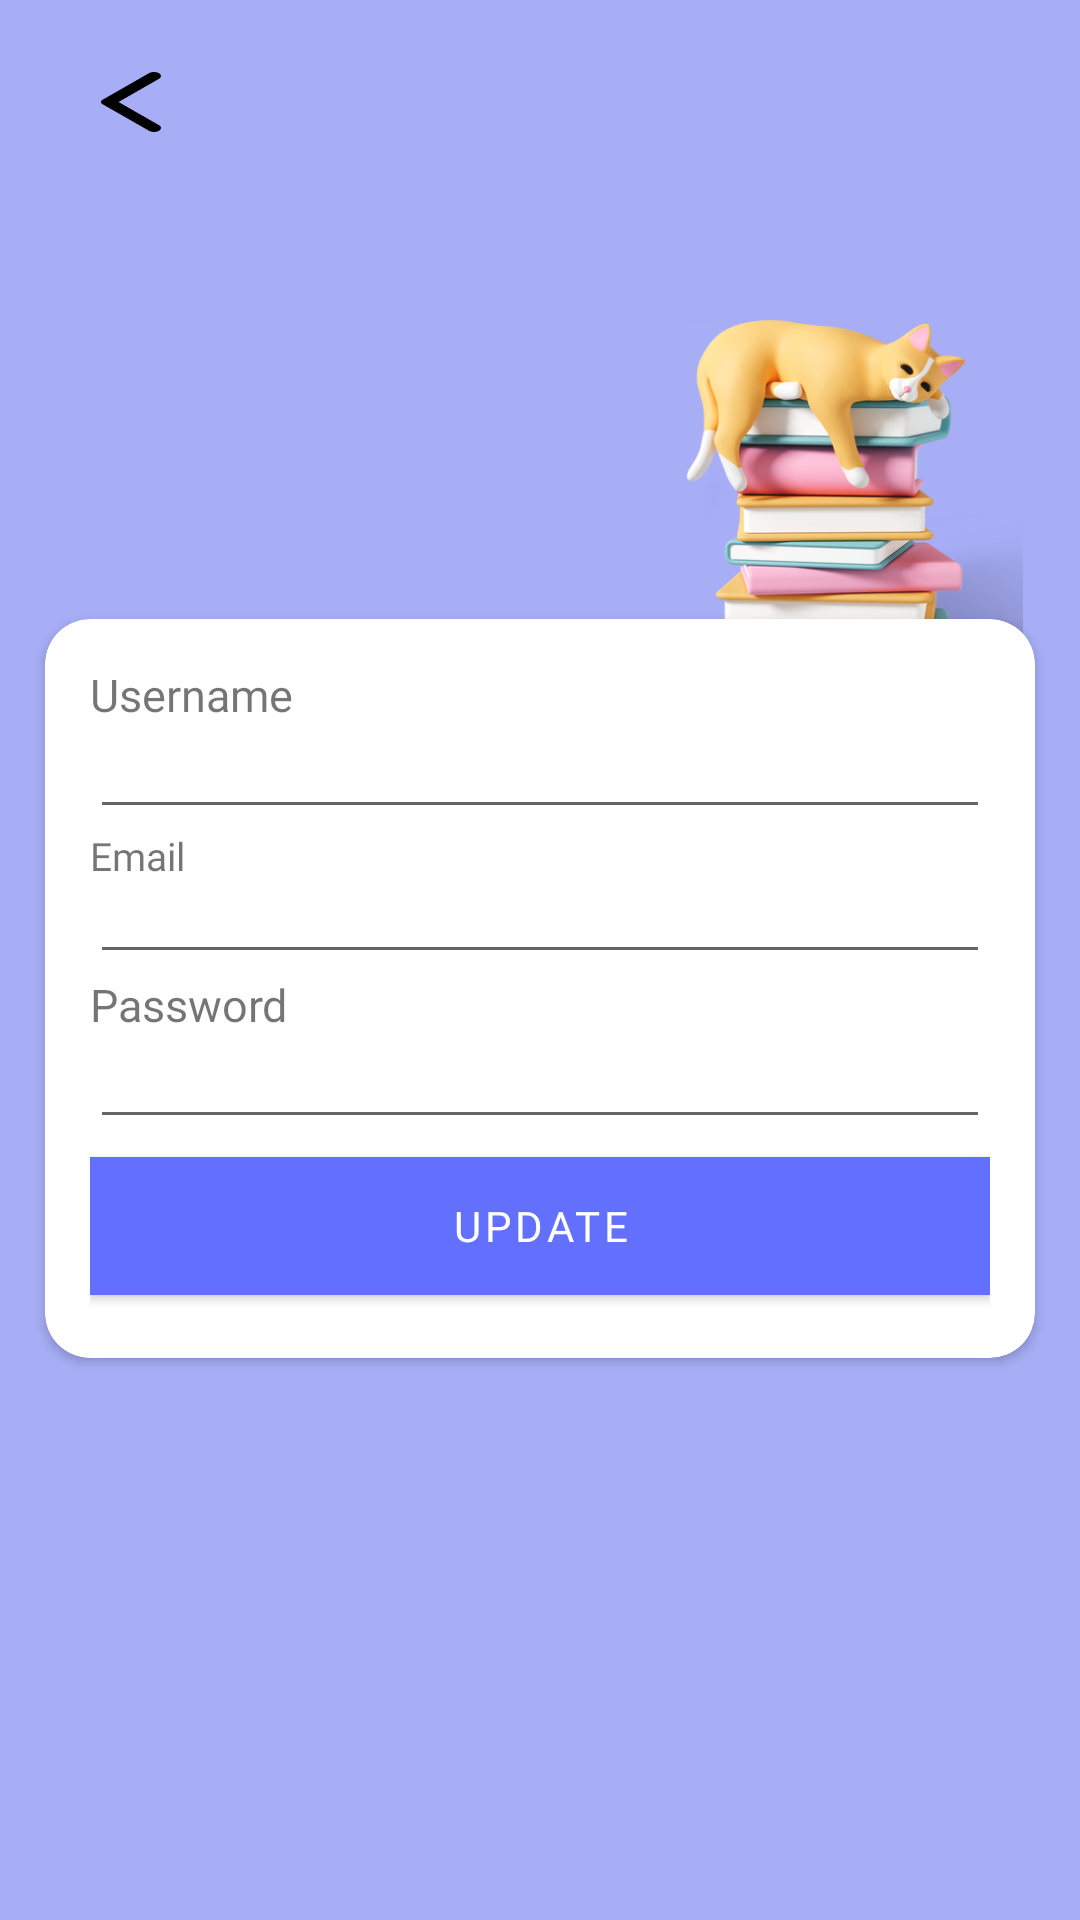

Locate icon controls on the screen. Image size 1080px x 1920px, boxes as (x1, y1, x2, y2).
arrow back: (101, 72, 161, 132)
